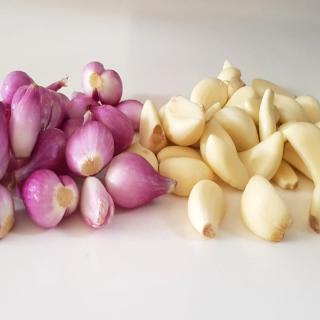Bawang Putih: (131, 60, 320, 242), (2, 56, 177, 247)
